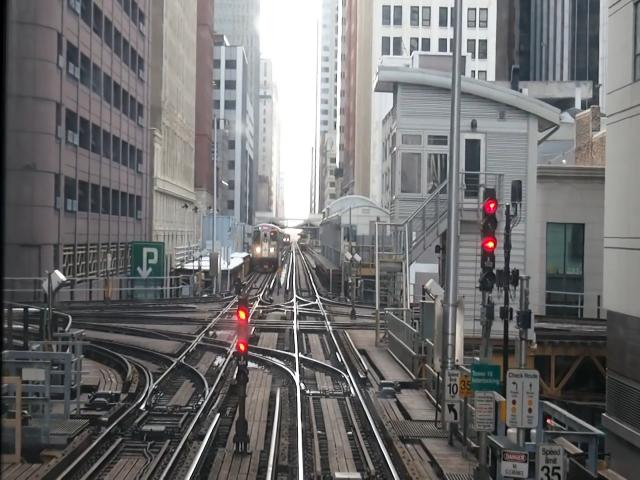signal light: (481, 188, 498, 294), (239, 296, 251, 392)
